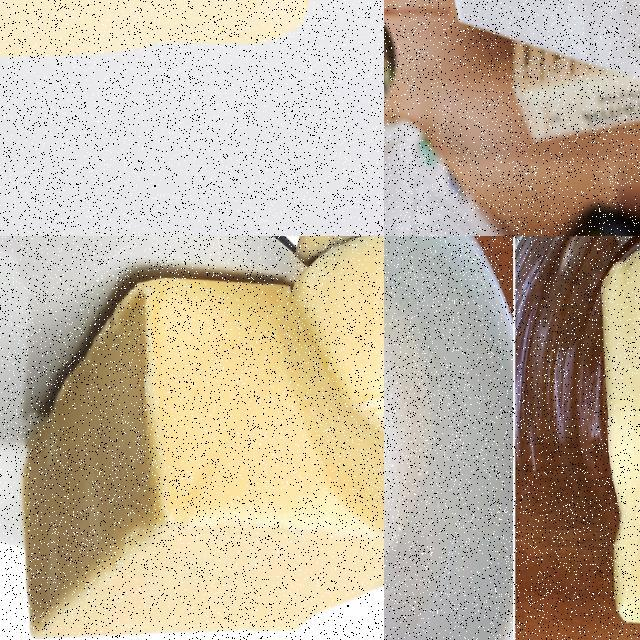Butter: (18, 276, 383, 639), (288, 236, 383, 464), (0, 0, 315, 68), (595, 249, 639, 636)
